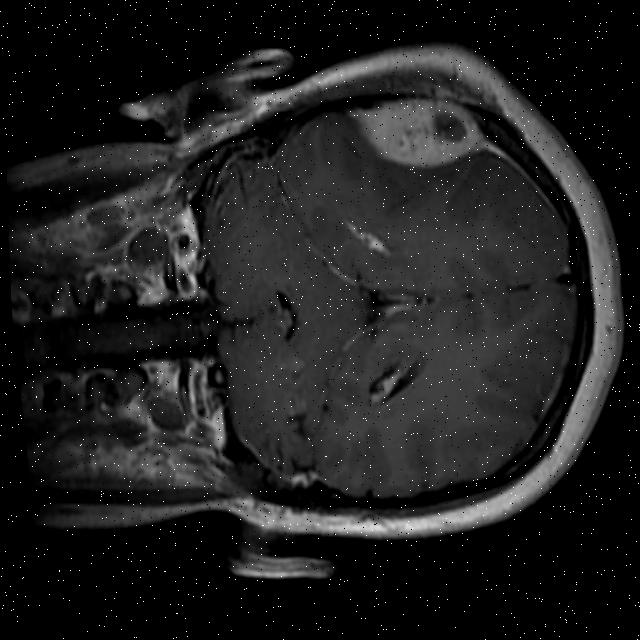Meningioma: (346, 89, 492, 176)
